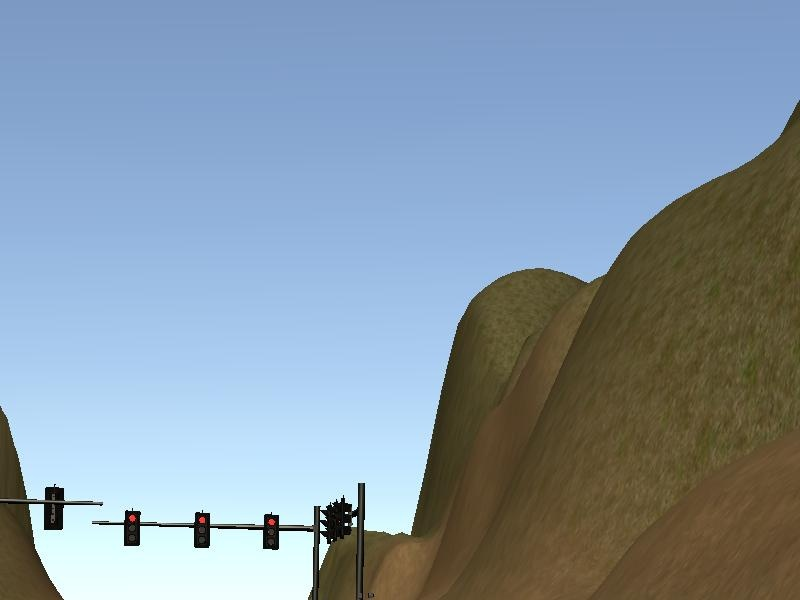red: (121, 510, 142, 546), (192, 512, 210, 546), (262, 513, 278, 549)
